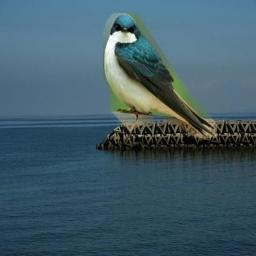Swallow: (103, 13, 217, 138)
